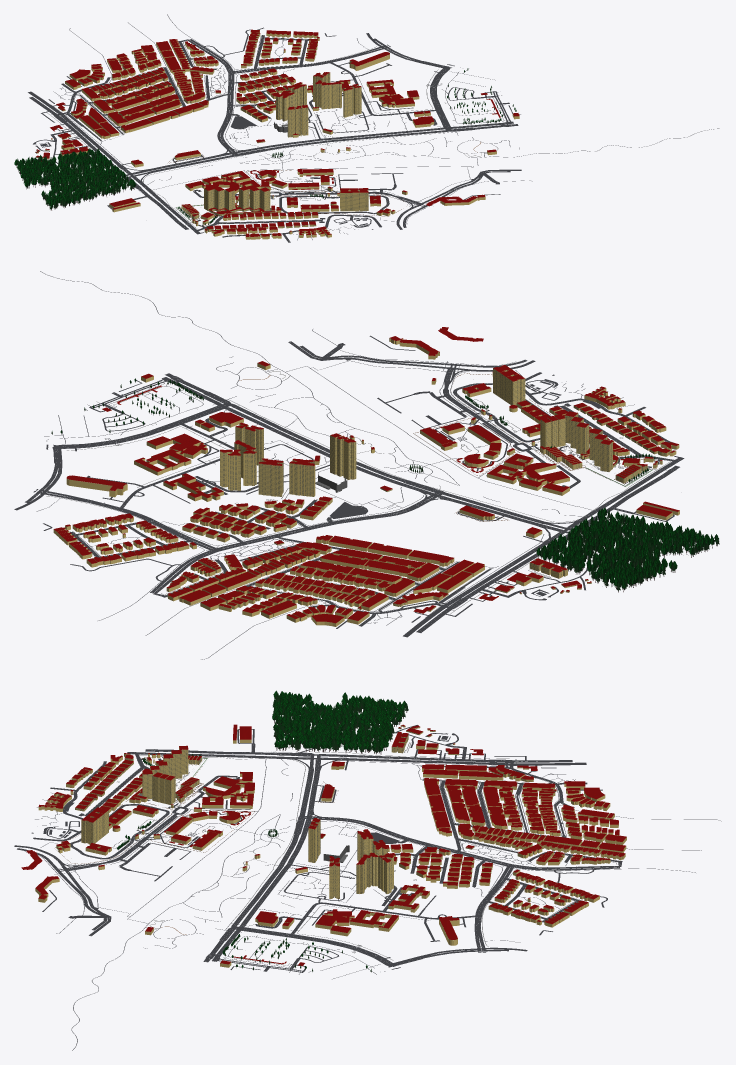
File: osm3d.glb
The picture shows the model from 3 angles, top to bottom: view 1: azimuth 30°, elevation 25°; view 2: azimuth 150°, elevation 25°; view 3: azimuth 270°, elevation 25°; orthographic projection. The views are drawn at different scales.
Parts seen in each view (by area): view 1: RoofingTiles010, Plaster002, ASPHALT, TextureAtlas a056efa4, Windows, Concrete034; view 2: Plaster002, RoofingTiles010, ASPHALT, TextureAtlas a056efa4, Windows, Concrete034; view 3: RoofingTiles010, ASPHALT, Plaster002, TextureAtlas a056efa4, Windows, Concrete034.
Part boxes in pixels (left/top/right/bottom): RoofingTiles010: left=36, top=29, right=519, bottom=236; Plaster002: left=35, top=30, right=519, bottom=239; ASPHALT: left=28, top=14, right=719, bottom=242; TextureAtlas a056efa4: left=14, top=68, right=516, bottom=224; Windows: left=35, top=73, right=368, bottom=231; Concrete034: left=46, top=46, right=503, bottom=229; Plaster002: left=53, top=338, right=679, bottom=626; RoofingTiles010: left=54, top=327, right=679, bottom=623; ASPHALT: left=14, top=271, right=684, bottom=659; TextureAtlas a056efa4: left=51, top=378, right=719, bottom=592; Windows: left=220, top=369, right=669, bottom=611; Concrete034: left=46, top=356, right=675, bottom=617; RoofingTiles010: left=21, top=724, right=626, bottom=965; ASPHALT: left=14, top=725, right=721, bottom=1050; Plaster002: left=35, top=725, right=626, bottom=967; TextureAtlas a056efa4: left=117, top=690, right=408, bottom=972; Windows: left=75, top=726, right=555, bottom=898; Concrete034: left=112, top=742, right=541, bottom=972.
Size of the model in its own units: 1673 by 75.04 by 1422.
Materials: 24 (23 with a texture image).
